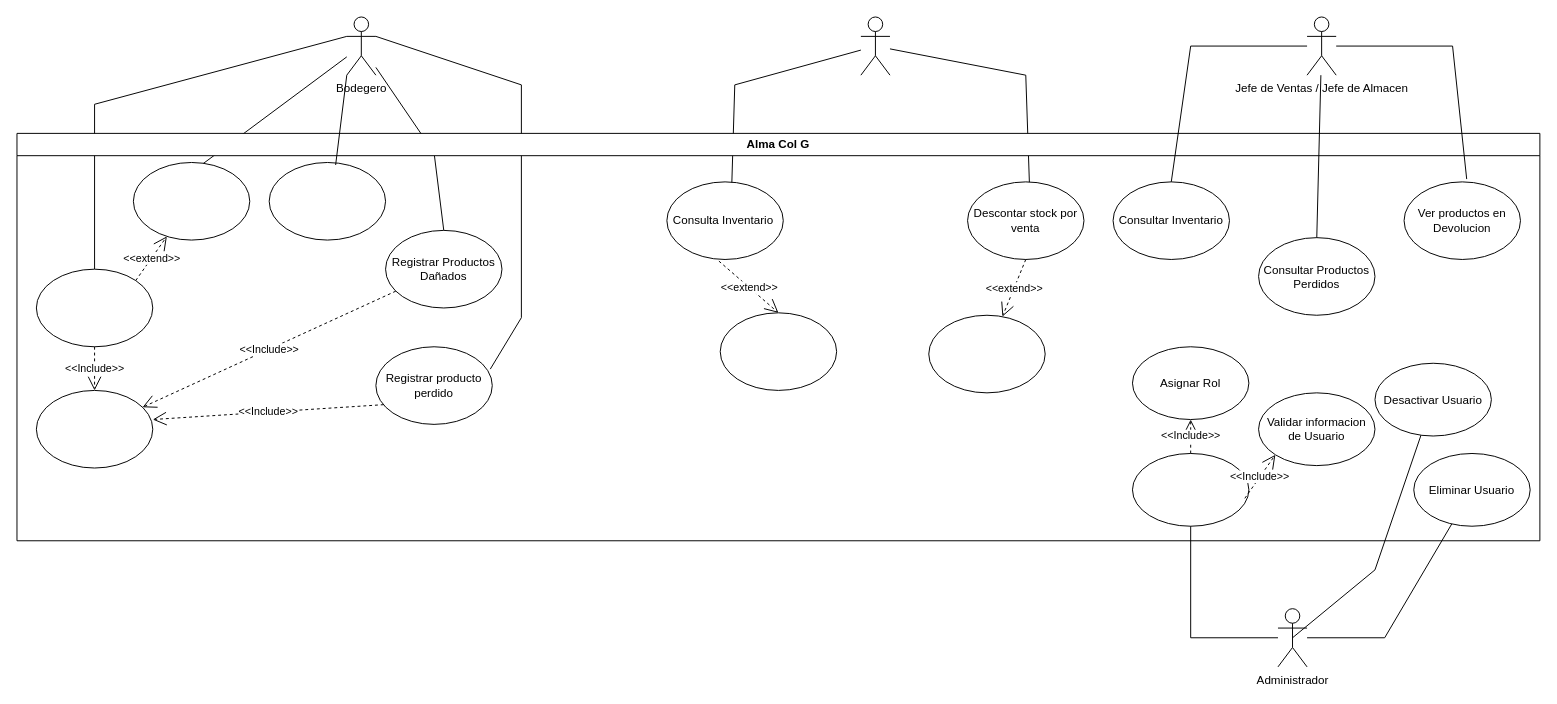
Image size: 1557x704. Some labels were removed from this diagram. The centre of each missing label's shape, as x and y in pixels:
Actualzuiar Cantidad de Producto: (191,201)
Crear Usuario: (1190,489)
Eliminar Productos: (327,201)
Registra un producto en el Inventario: (94,307)
Reporta Producto Agotado: (986,353)
Solicitar productos de otros almacen: (778,351)
Validar datos de el producto: (94,428)
Vendedor: (875,45)
